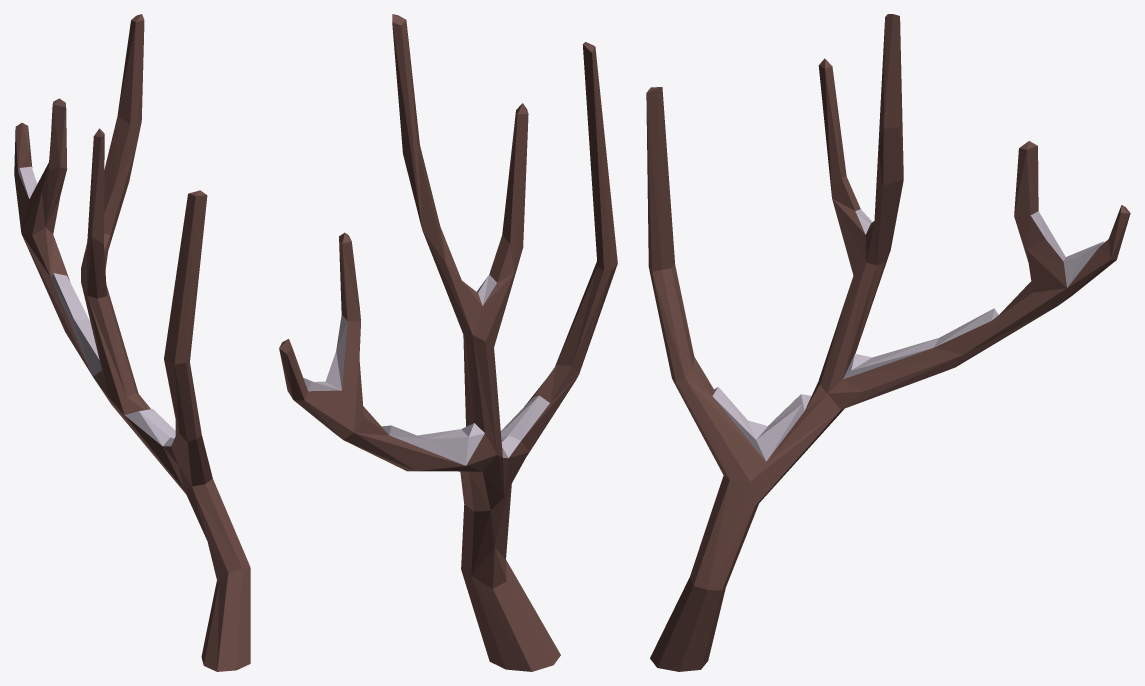
The model's file is Willow_Dead_Snow_1.lod2.glb.
The picture shows the model from 3 angles, left to right: view 1: azimuth 30°, elevation 25°; view 2: azimuth 150°, elevation 25°; view 3: azimuth 270°, elevation 25°; orthographic projection. The views are drawn at different scales.
Parts seen in each view (by area): view 1: Willow_Dead_Snow_1; view 2: Willow_Dead_Snow_1; view 3: Willow_Dead_Snow_1.
Part boxes in pixels (<box>): Willow_Dead_Snow_1: <box>14,14,250,671</box>; Willow_Dead_Snow_1: <box>279,14,617,671</box>; Willow_Dead_Snow_1: <box>646,14,1130,671</box>.
Size of the model in its own units: 0.5047 by 2.69 by 1.81.
